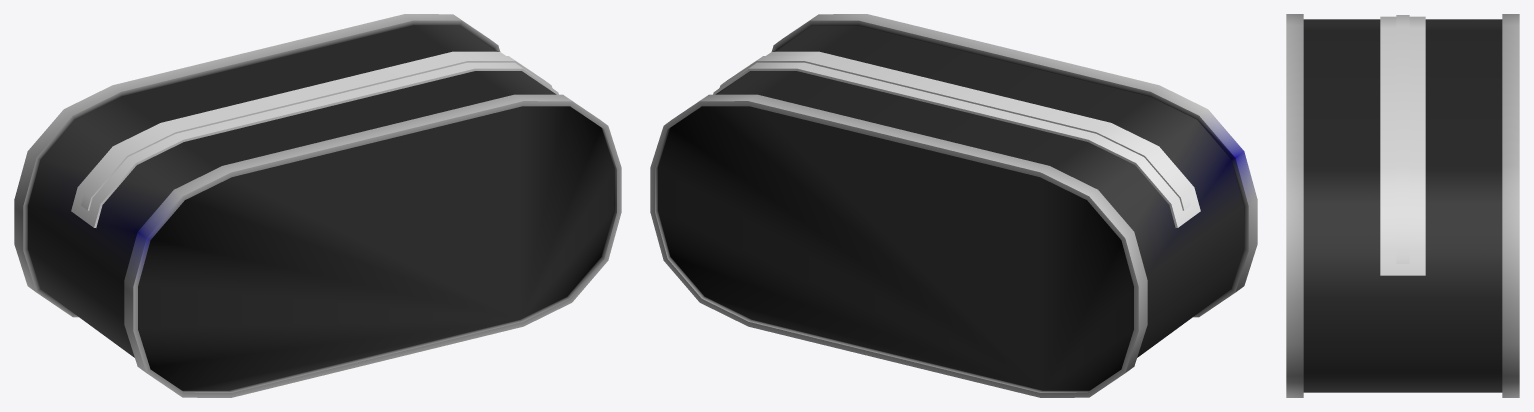
Rendered from pink doang.fbx.
3 views of the same model, side by side, from view 1: azimuth 30°, elevation 25°; view 2: azimuth 150°, elevation 25°; view 3: azimuth 270°, elevation 25° (orthographic).
Visible parts, largest first — view 1: tempat pensil_main.001; view 2: tempat pensil_main.001; view 3: tempat pensil_main.001.
Boxes of the visible parts, left/top/right/bottom form: tempat pensil_main.001: left=14, top=14, right=621, bottom=397; tempat pensil_main.001: left=650, top=14, right=1257, bottom=397; tempat pensil_main.001: left=1286, top=14, right=1519, bottom=397.
Size of the model in its own units: 20.15 by 8.89 by 8.5.
